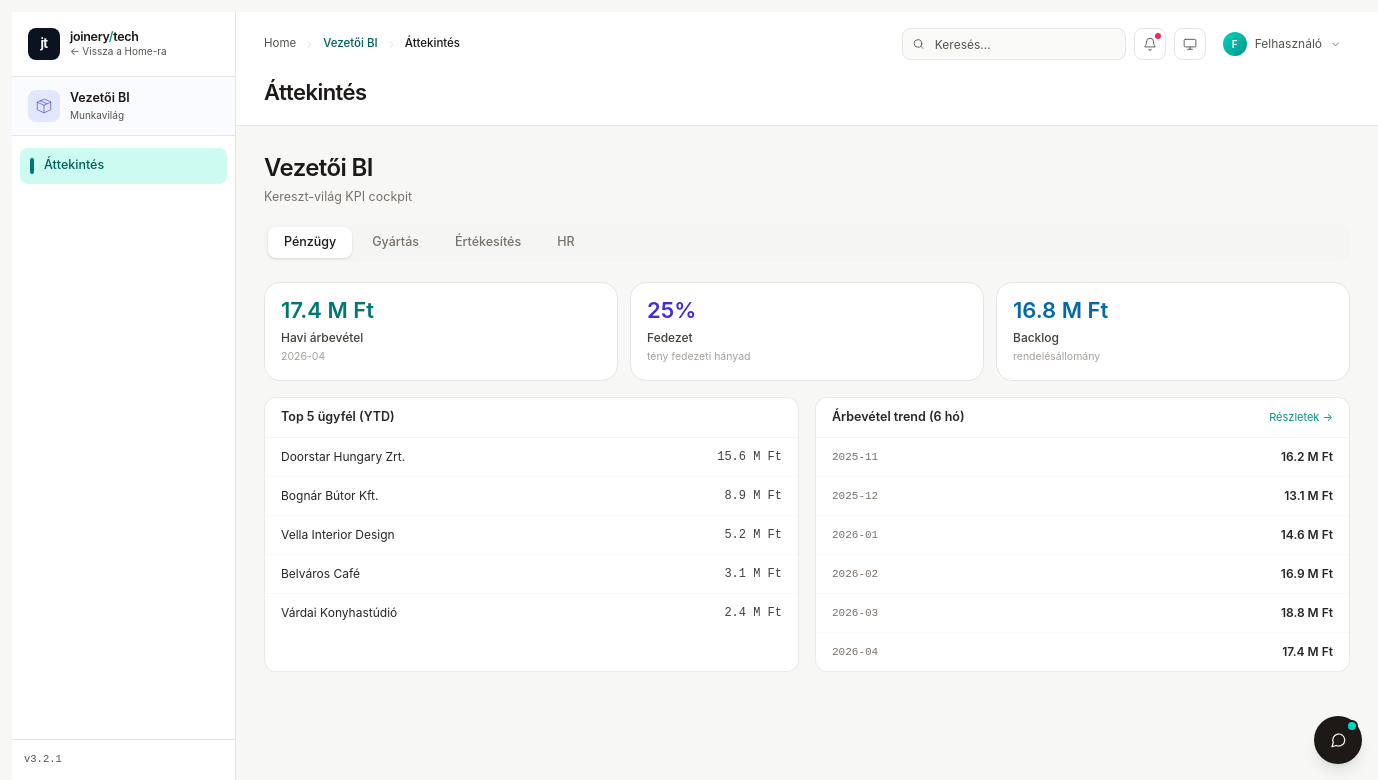
Test: ExecBiPage › clicking HR tab renders HR content
The image size is (1378, 780).
What coordinates should you click on to do the following:
click the button "HR"
I would click on:
 (566, 242)
Its box is [541, 227, 591, 258].
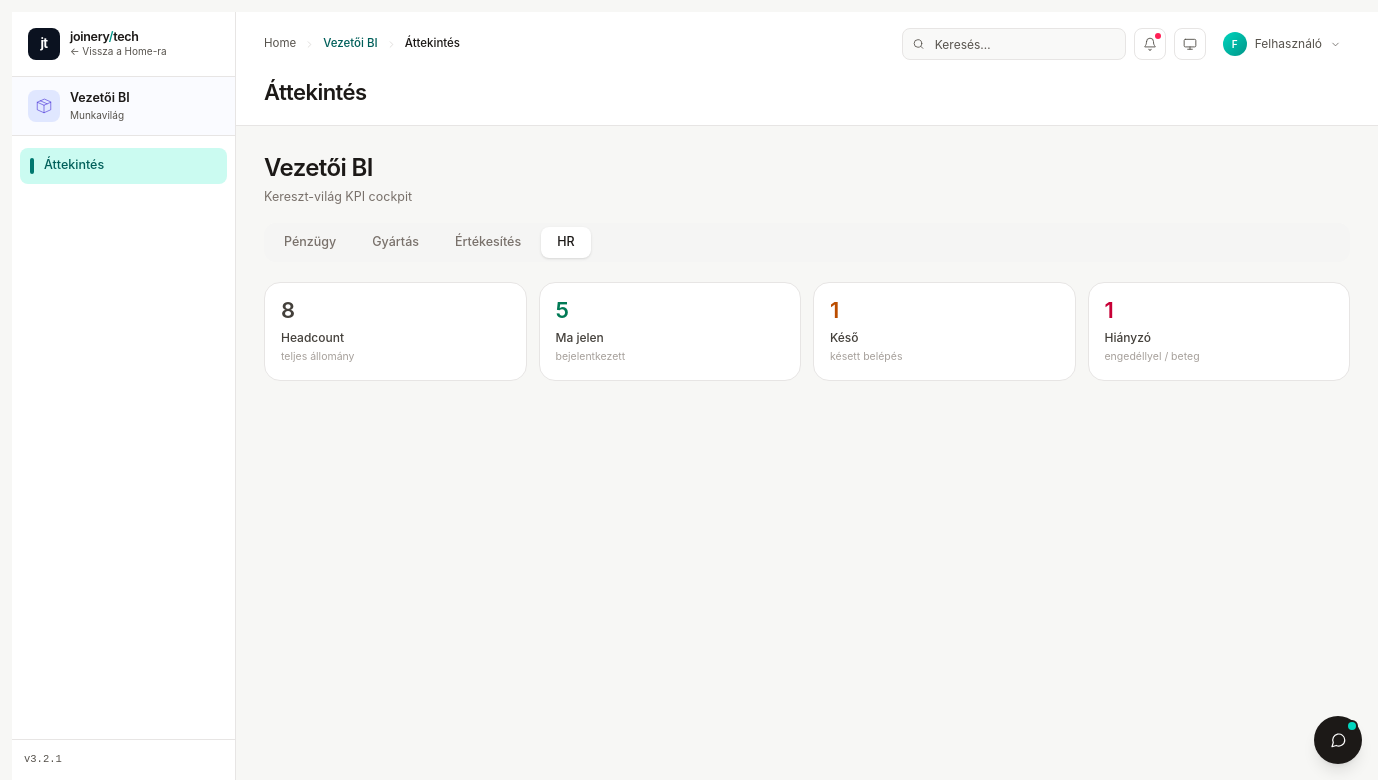
expect the text "Headcount" is shown: met, box [281, 330, 344, 344]
